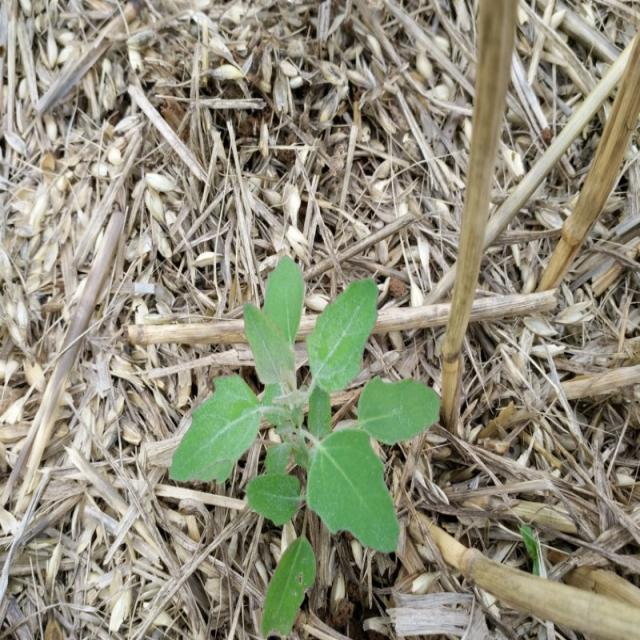ca: (174, 254, 444, 557)
